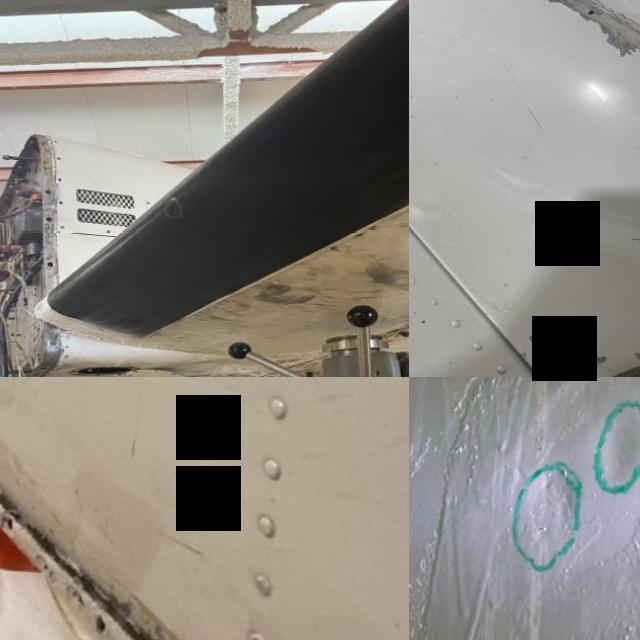Crack: (0, 415, 329, 640)
Missing_Fastener: (60, 200, 66, 206), (108, 229, 113, 234), (60, 177, 64, 182)
